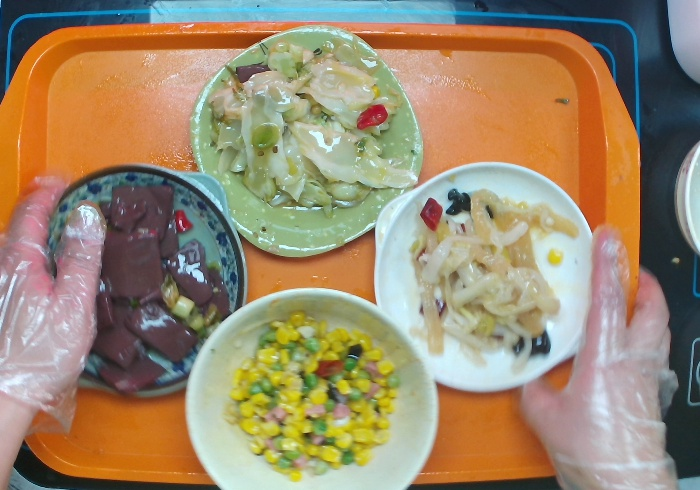NLDX-Bai_Se_Shuang_Er_Die: (374, 159, 595, 395)
NLDX-Bai_Se_Yuan_Wan: (184, 285, 440, 490)
NLDX-Lv_Hua_Fang_Die: (191, 25, 423, 260)
NLDX-Qing_Hua_Shuang_Er_Die: (42, 163, 249, 397)
